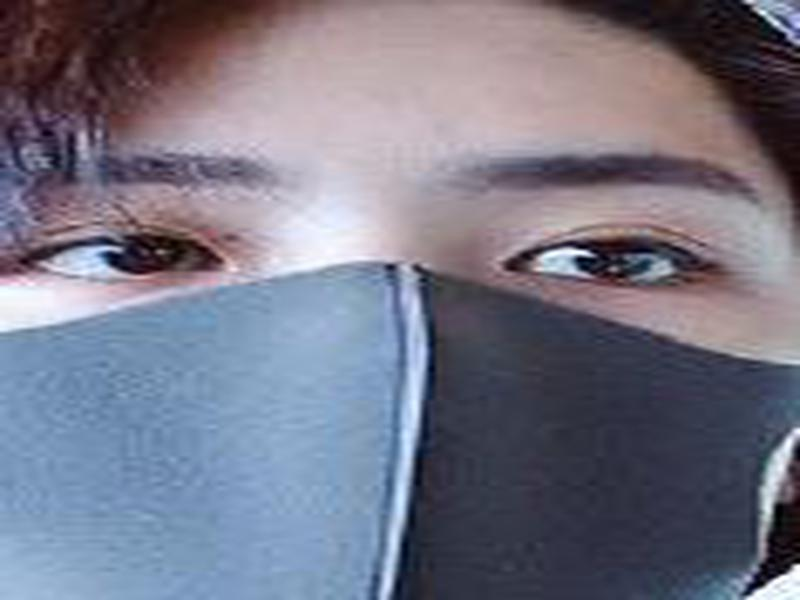with_mask: (1, 4, 799, 600)
